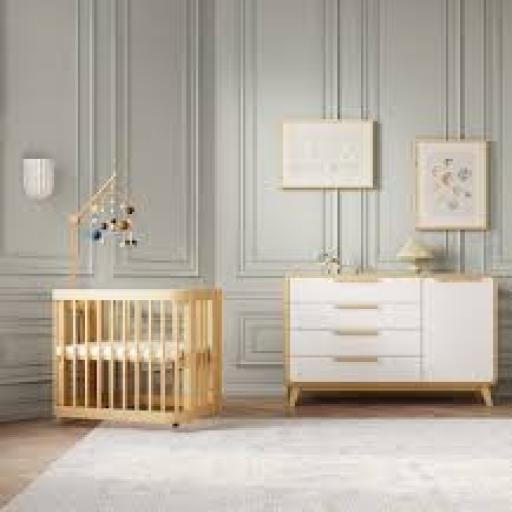crib: (55, 290, 221, 423)
